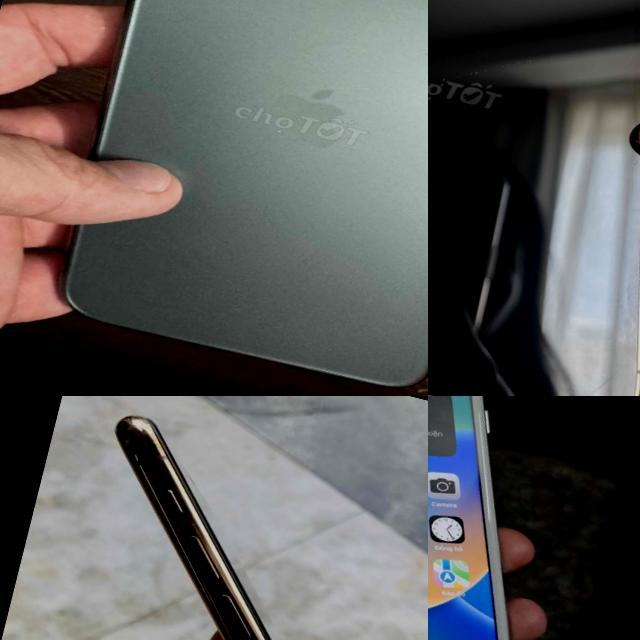gen_11: (25, 0, 428, 396), (0, 396, 428, 640)
gen_12_13: (428, 0, 640, 396)
gen_7_8: (428, 396, 617, 640)
